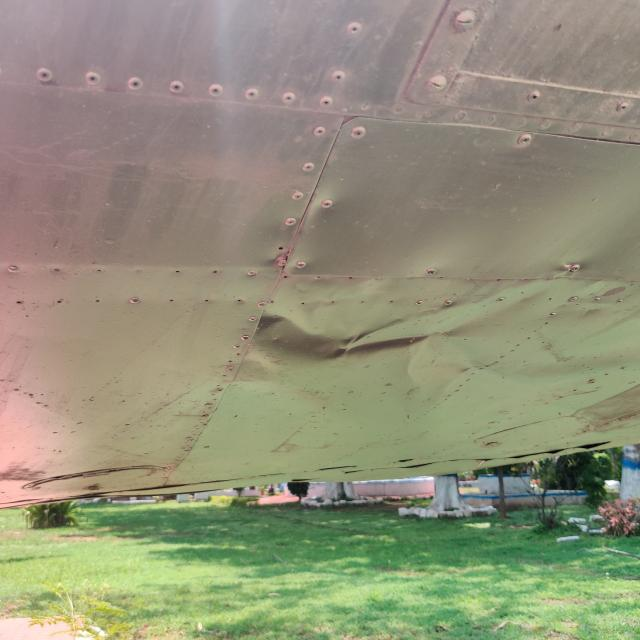dent: (222, 241, 561, 412)
